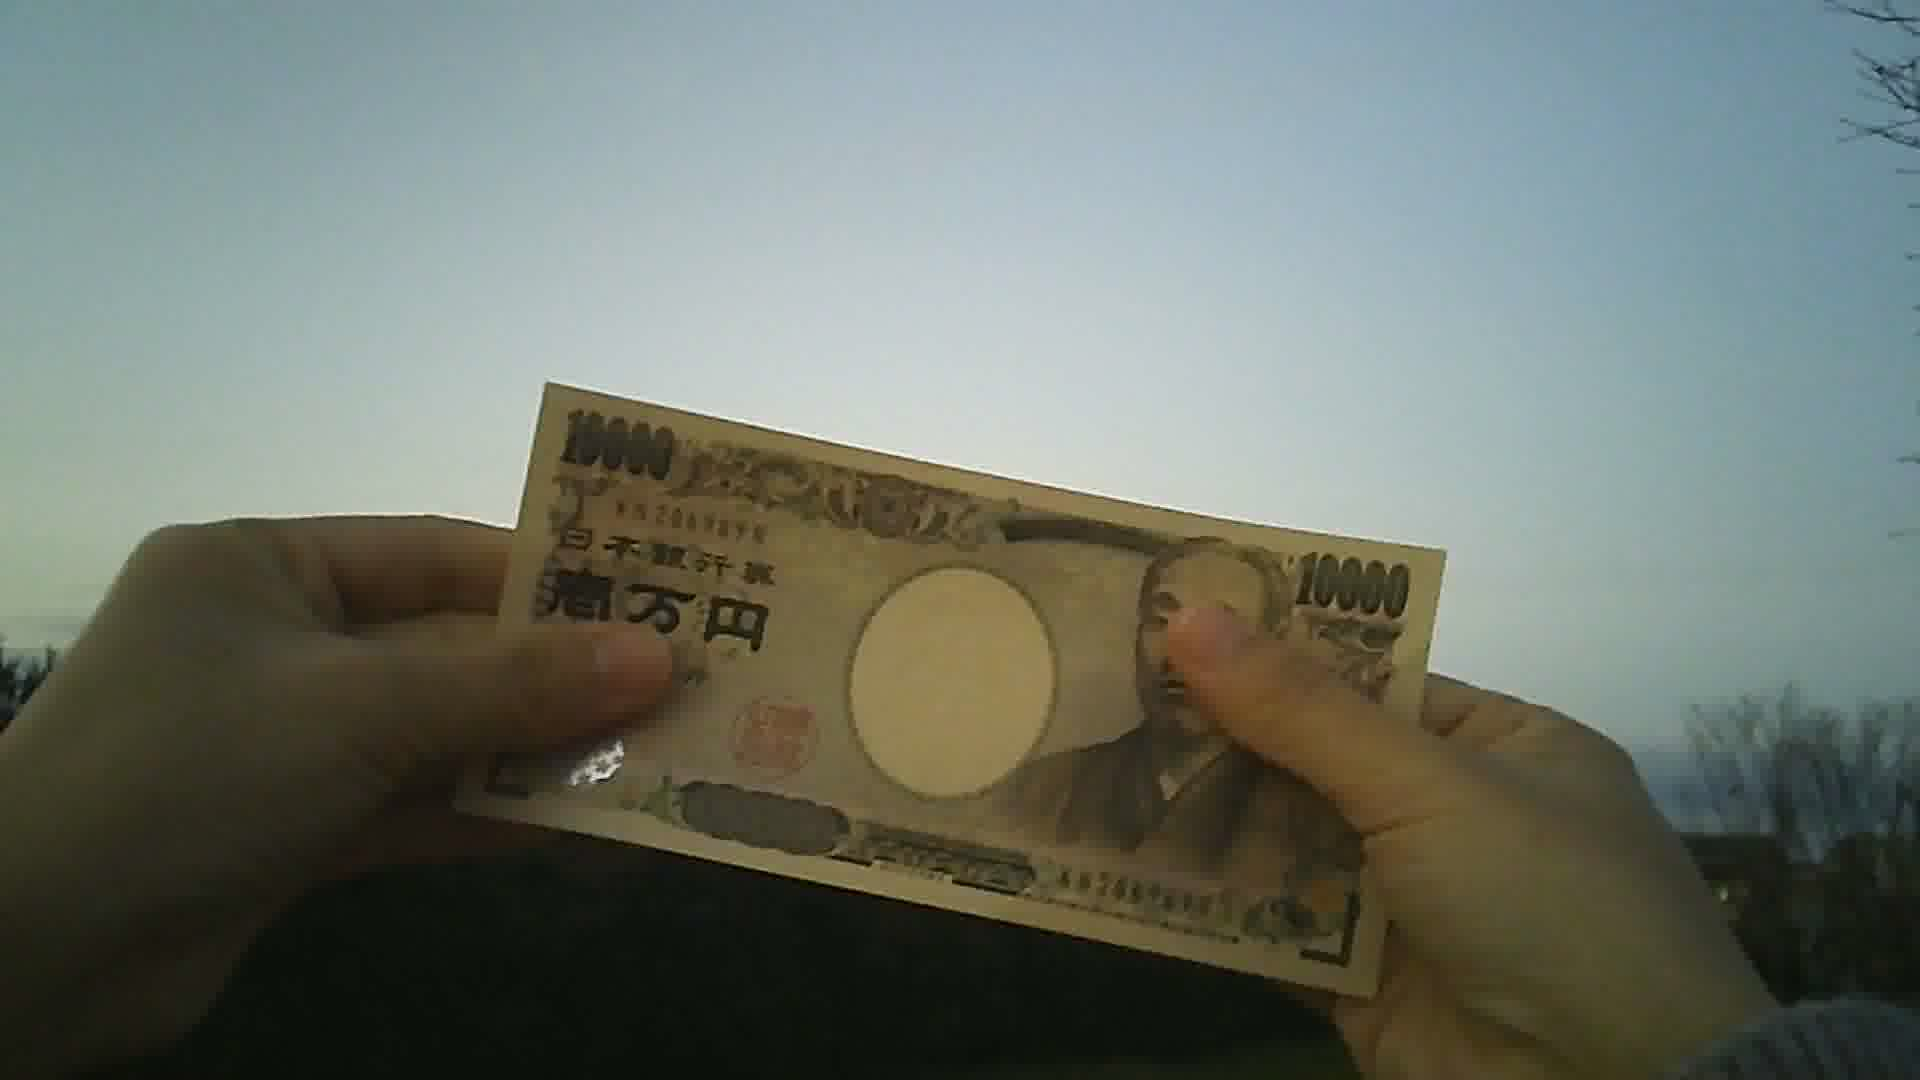10,000 Yen: (451, 357, 1456, 1004)
